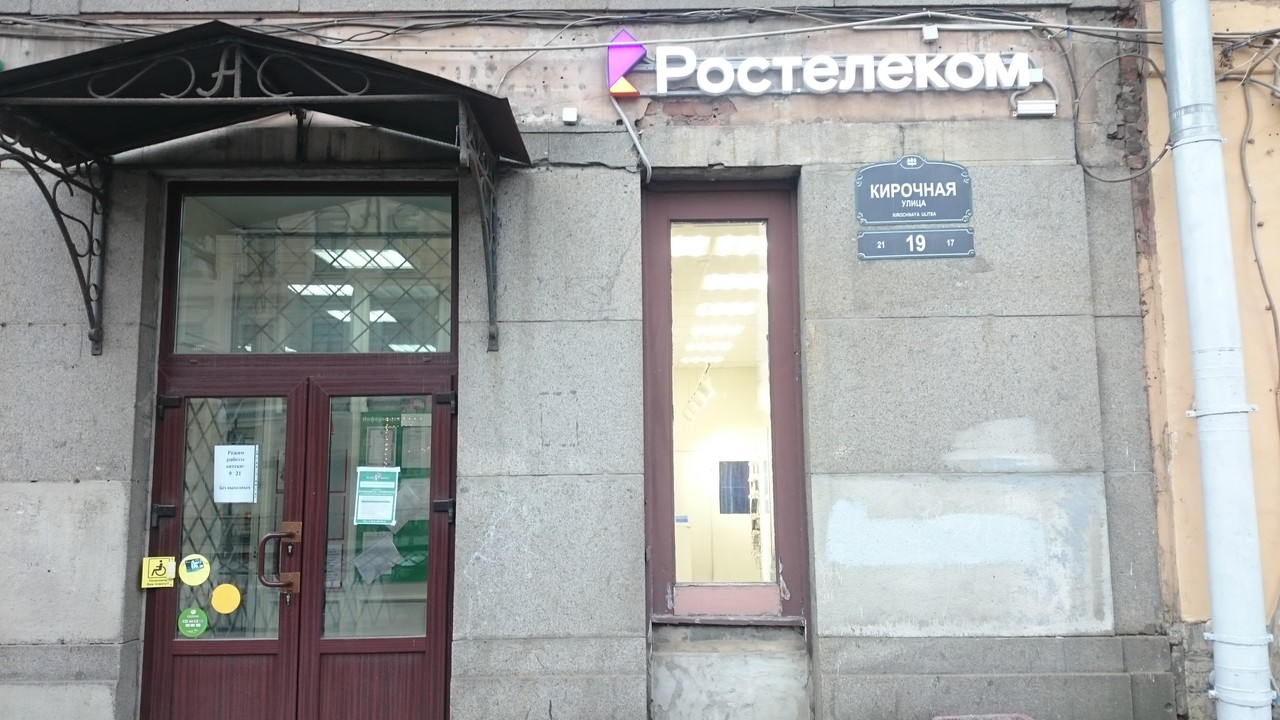door: (155, 371, 309, 720)
signboard: (601, 26, 1049, 118)
window: (647, 187, 811, 622), (156, 184, 458, 365), (312, 372, 447, 651)
